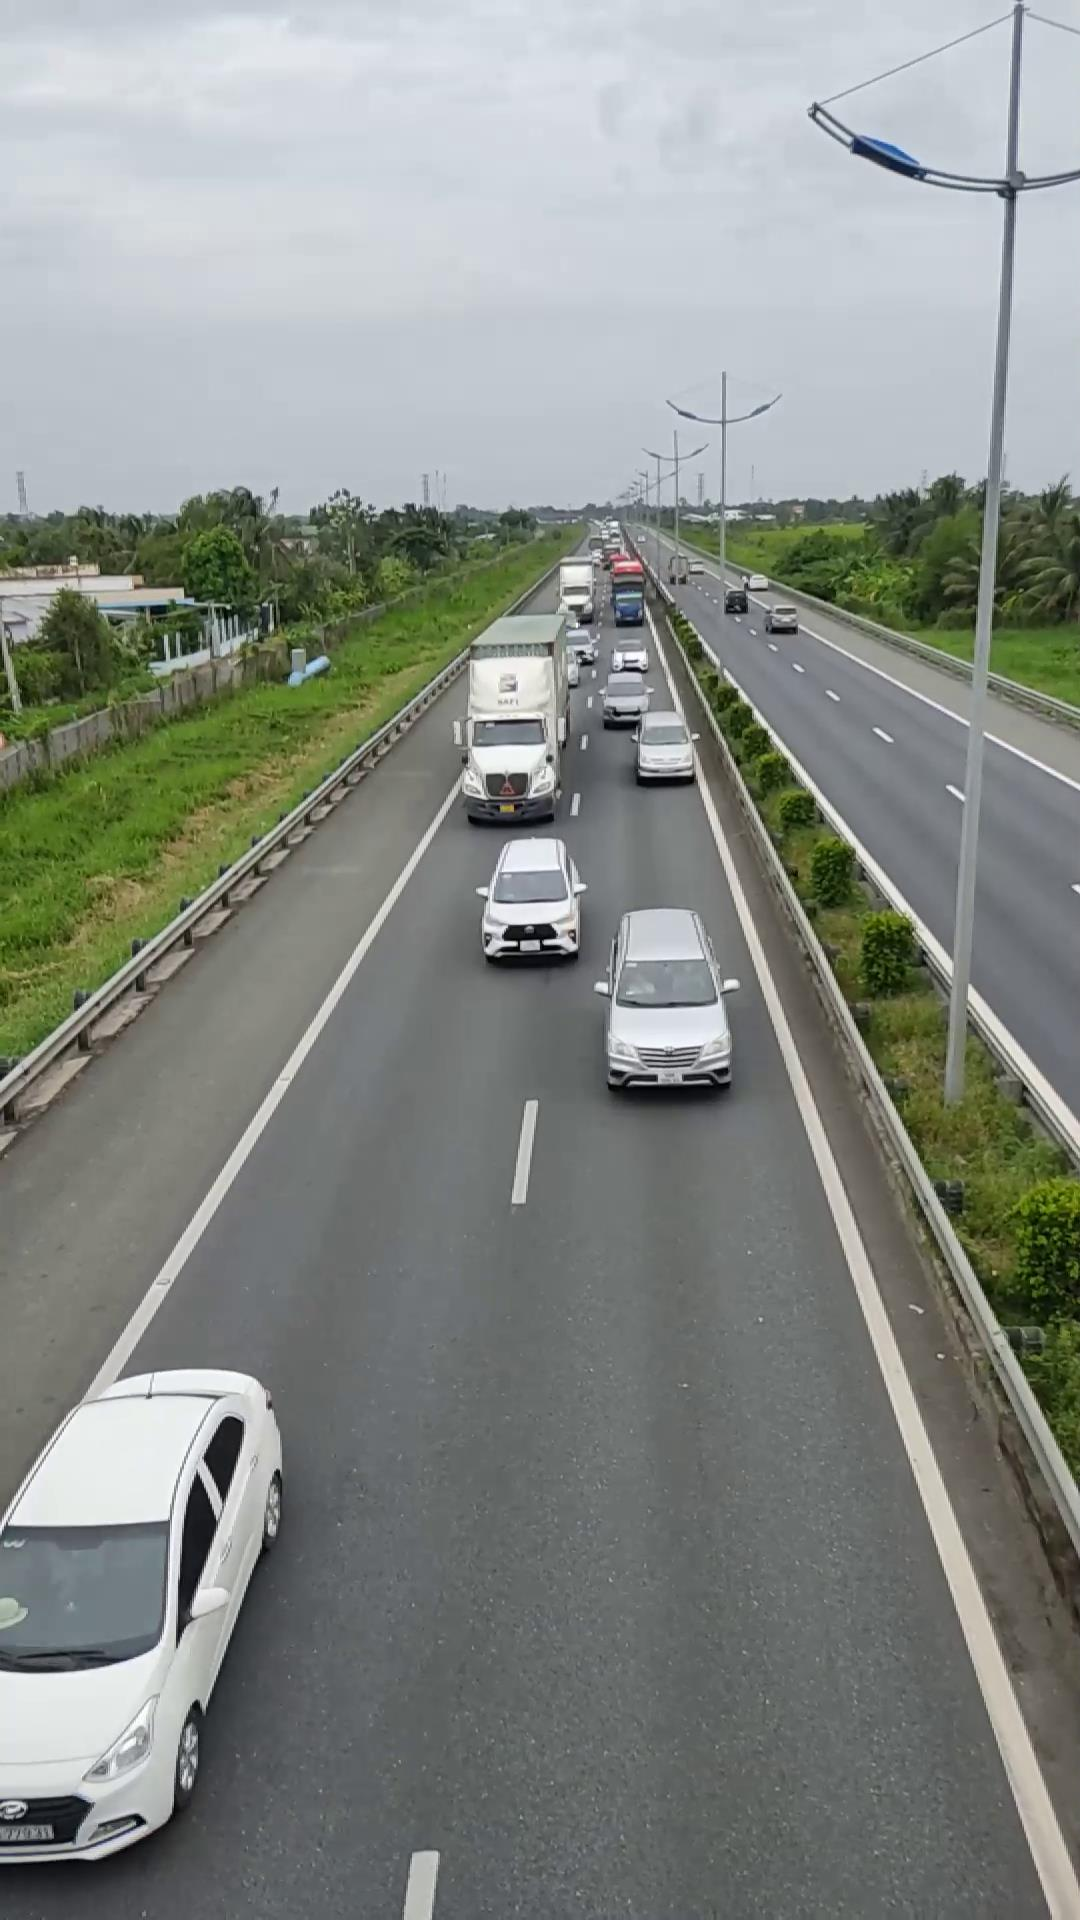car: (0, 1364, 287, 1863), (599, 905, 736, 1094), (476, 833, 586, 963), (633, 708, 700, 782)
container: (455, 609, 573, 823)
